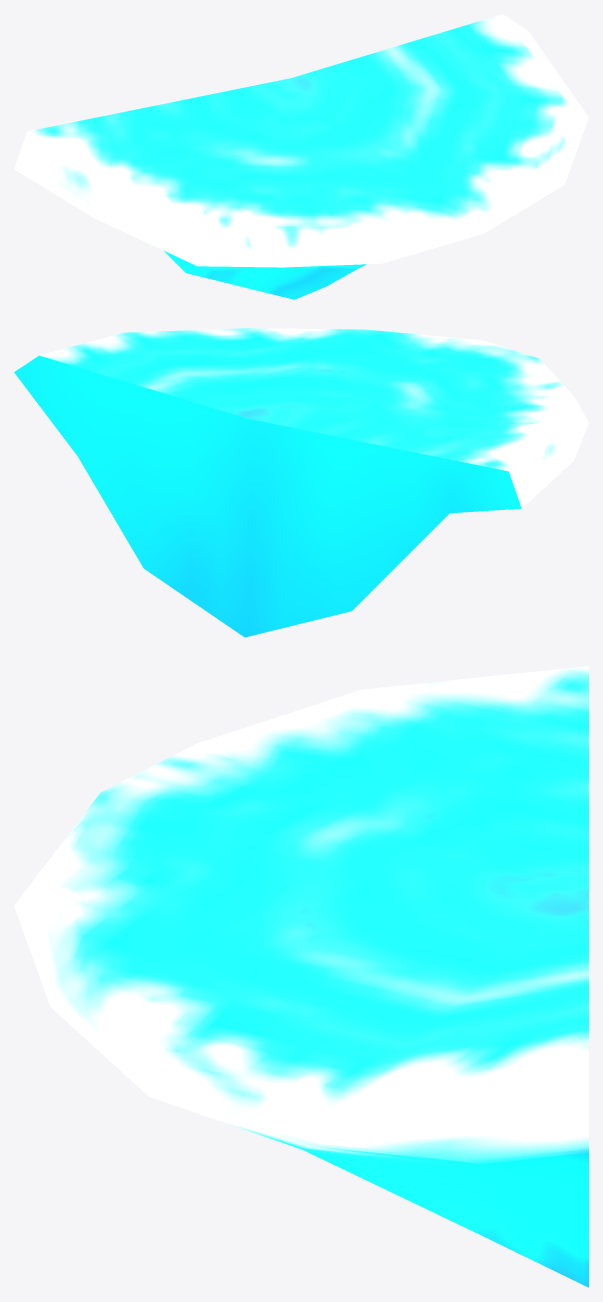
The model's file is SM_ENV_mushrooms_ancient_01_03.fbx.
The picture shows the model from 3 angles, top to bottom: view 1: azimuth 30°, elevation 25°; view 2: azimuth 150°, elevation 25°; view 3: azimuth 270°, elevation 25°; orthographic projection. The views are drawn at different scales.
Parts seen in each view (by area): view 1: SM_ENV_mushrooms_ancient_01_03_LOD0; view 2: SM_ENV_mushrooms_ancient_01_03_LOD0; view 3: SM_ENV_mushrooms_ancient_01_03_LOD0.
Boxes of the visible parts, <box> form: SM_ENV_mushrooms_ancient_01_03_LOD0: <box>14,14,588,299</box>; SM_ENV_mushrooms_ancient_01_03_LOD0: <box>14,328,588,637</box>; SM_ENV_mushrooms_ancient_01_03_LOD0: <box>14,666,588,1287</box>.
Bounding box in the file's own units: 24.86 × 10.85 × 14.28.
